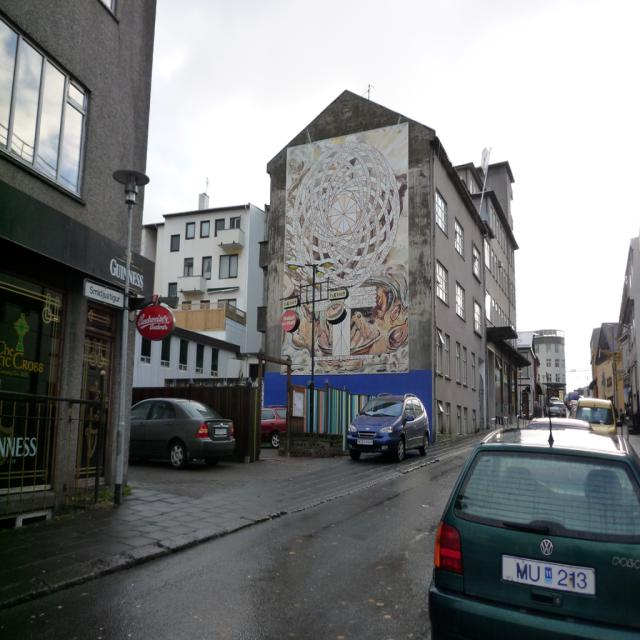car: (345, 388, 426, 461)
